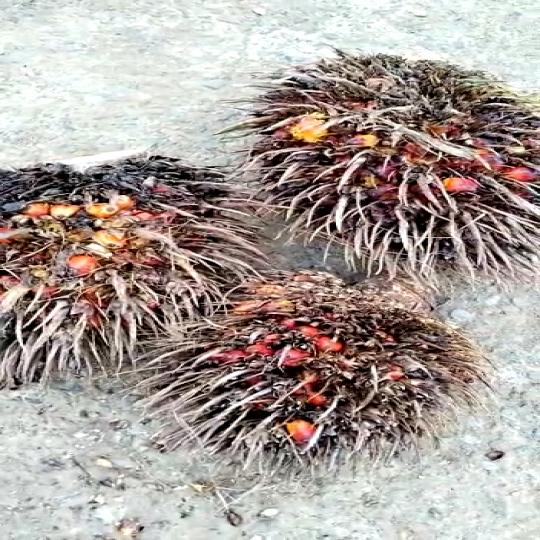terlalu masak: (0, 133, 277, 366), (243, 56, 540, 266), (145, 279, 472, 463)
